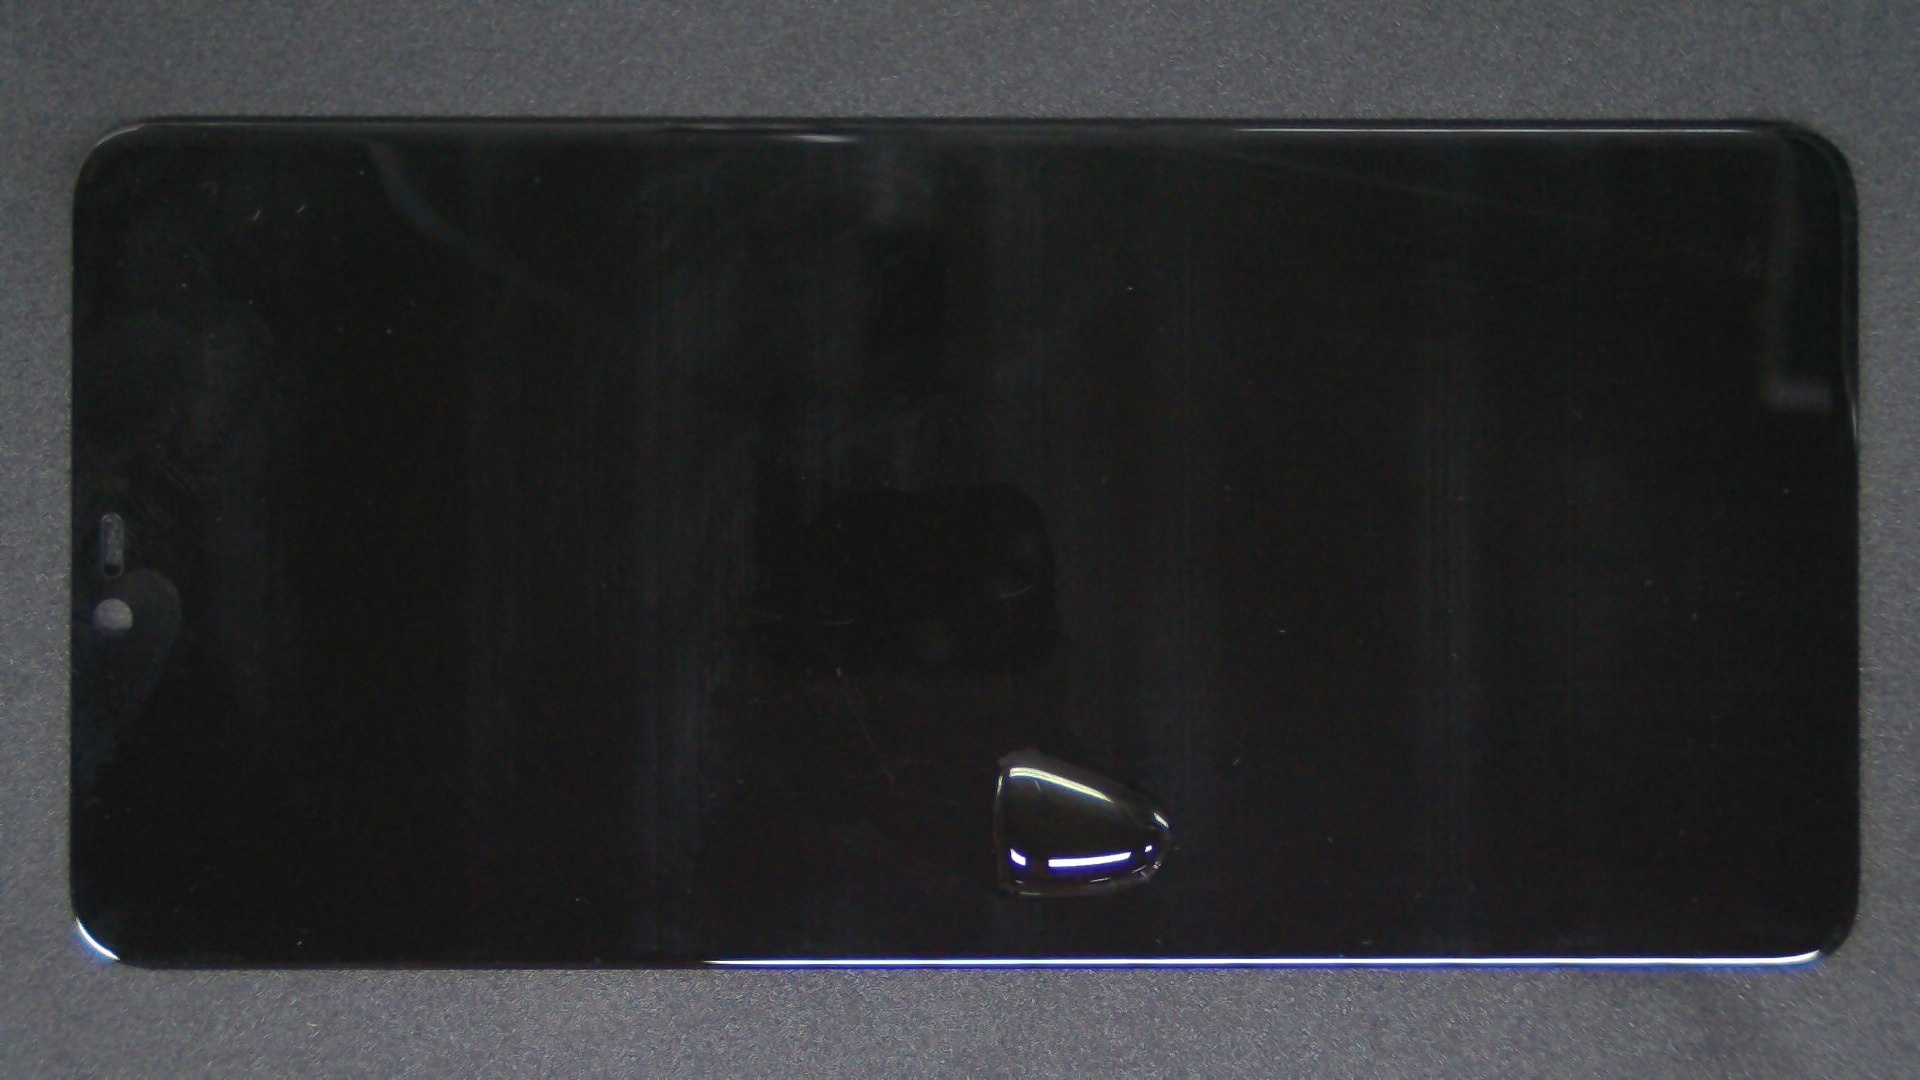oil: (517, 373, 1549, 1080)
